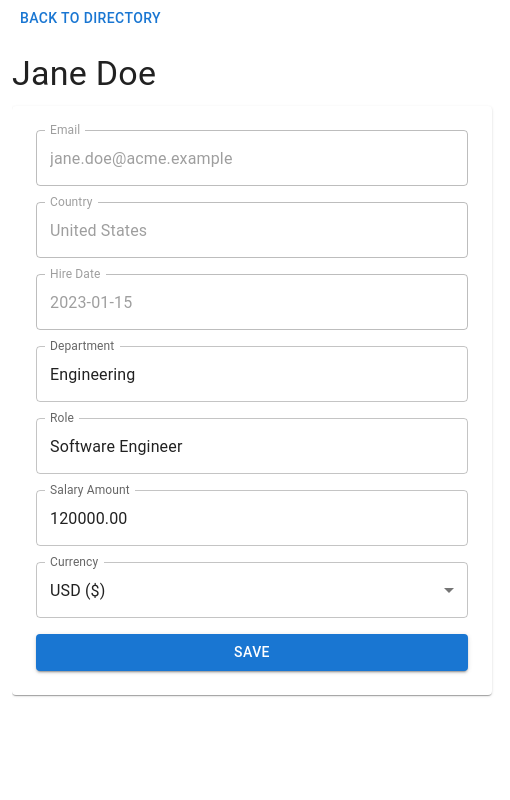
Test: EmployeeDetail › saves an updated salary
Expected: the heading "Jane Doe" is shown, [12,52,156,92]
Replace the text in the field labelled "Salary Amount" with "150000" at (252, 518), box [36,490,468,546]
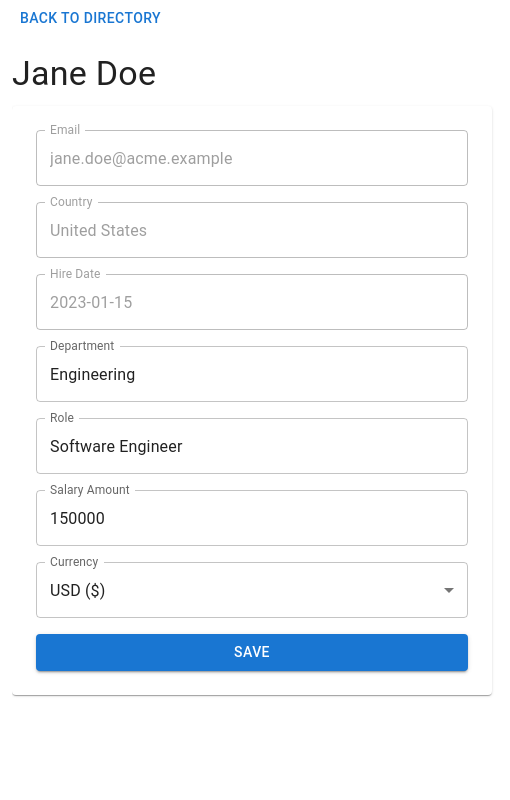
Click the button "Save" at (252, 653), box [36,634,468,671]
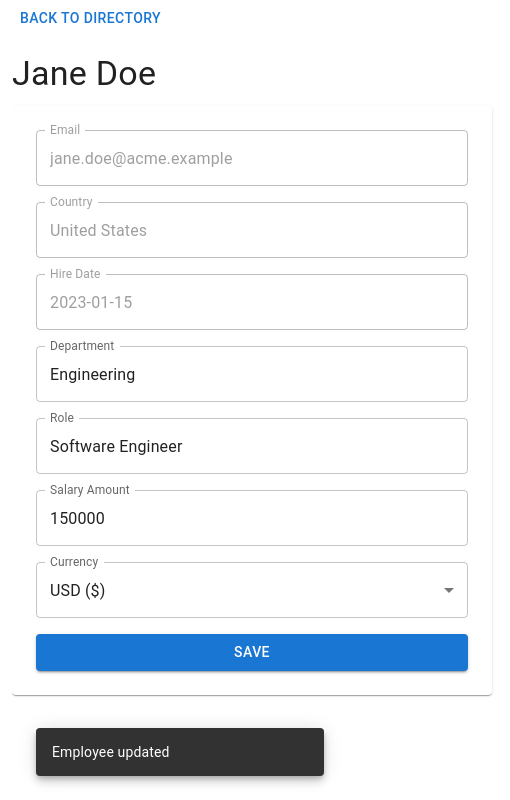
Expected: the text "Employee updated" is shown, [52,744,170,760]
